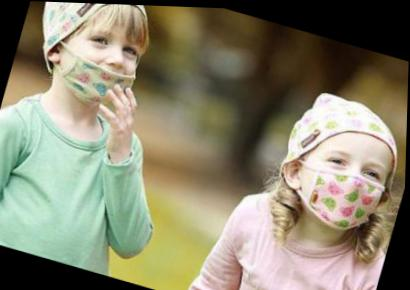OK: (299, 136, 399, 236)
WRONG: (52, 14, 152, 113)
